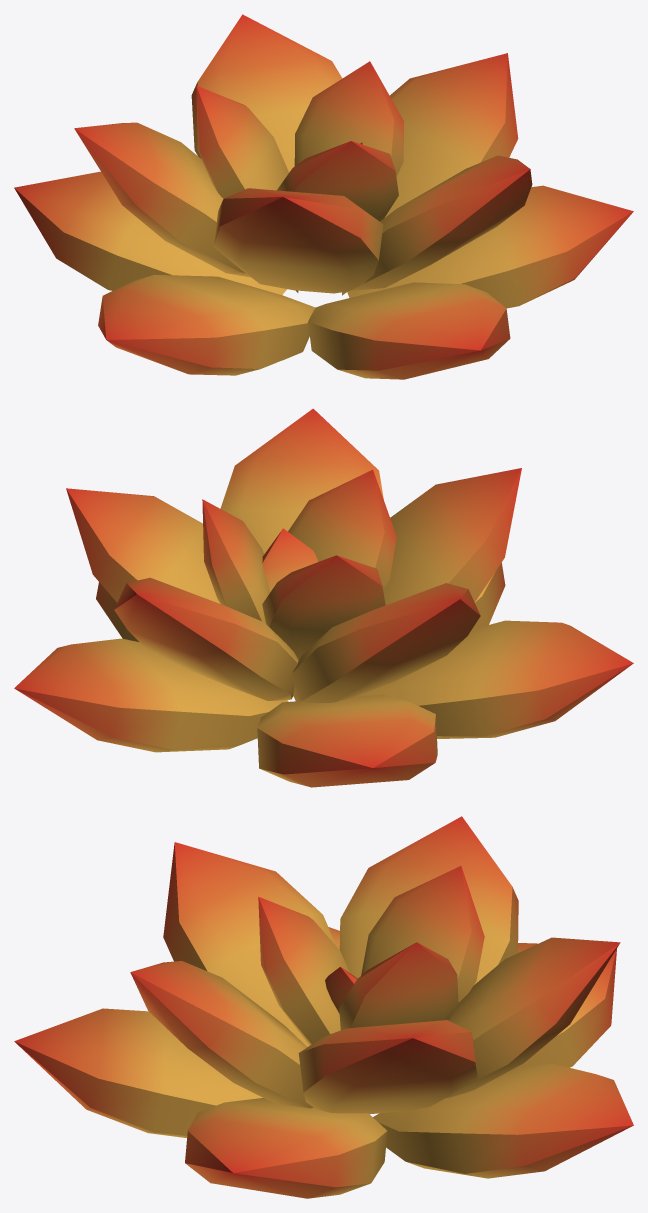
Rendered from Plant6.glb.
The picture shows the model from 3 angles, top to bottom: view 1: azimuth 30°, elevation 25°; view 2: azimuth 150°, elevation 25°; view 3: azimuth 270°, elevation 25°; orthographic projection. The views are drawn at different scales.
Parts seen in each view (by area): view 1: Plant6; view 2: Plant6; view 3: Plant6.
Part boxes in pixels (x1=…): Plant6: x1=14, y1=14, x2=633, y2=379; Plant6: x1=14, y1=408, x2=633, y2=787; Plant6: x1=14, y1=816, x2=633, y2=1198.
Size of the model in its own units: 0.8955 by 0.3443 by 0.8665.
